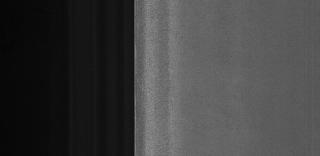silk spot: (155, 66, 171, 146)
